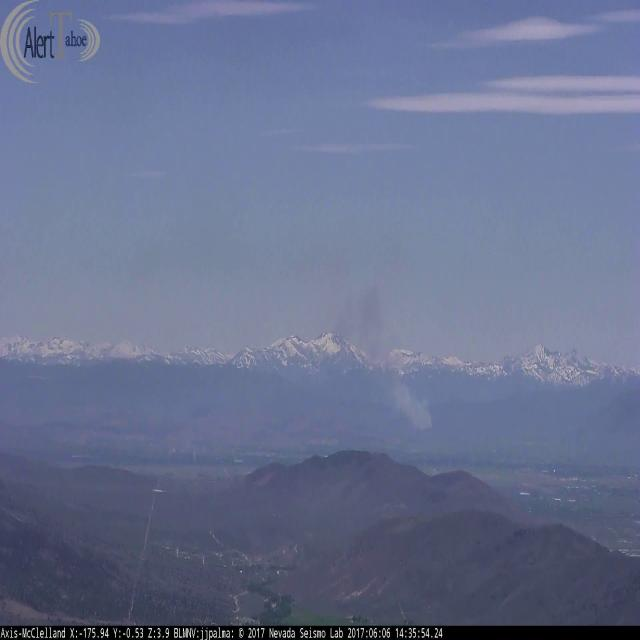smoke: (312, 242, 434, 432)
